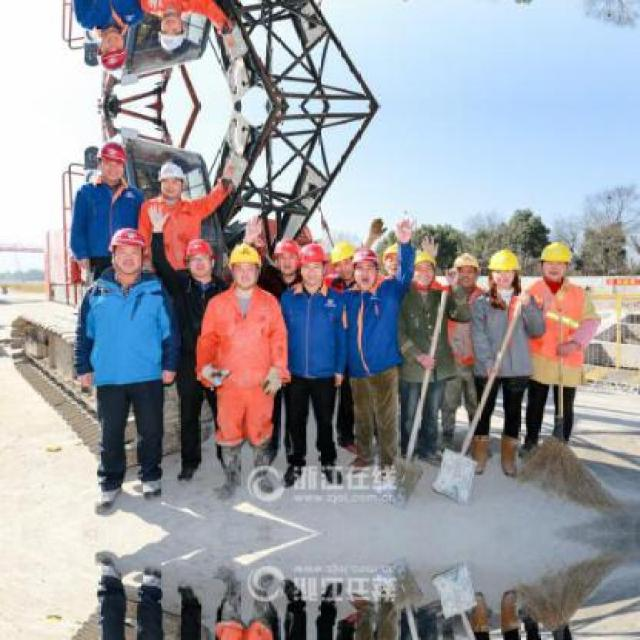helmet: (104, 224, 145, 277), (345, 246, 384, 292), (226, 240, 260, 289), (98, 134, 130, 184), (98, 29, 130, 79), (538, 239, 573, 284), (296, 242, 330, 287), (488, 244, 522, 288), (450, 249, 482, 292), (184, 236, 219, 274), (272, 235, 300, 275), (412, 250, 441, 288), (381, 240, 410, 277), (331, 241, 355, 285), (157, 163, 186, 196), (157, 16, 186, 49)
